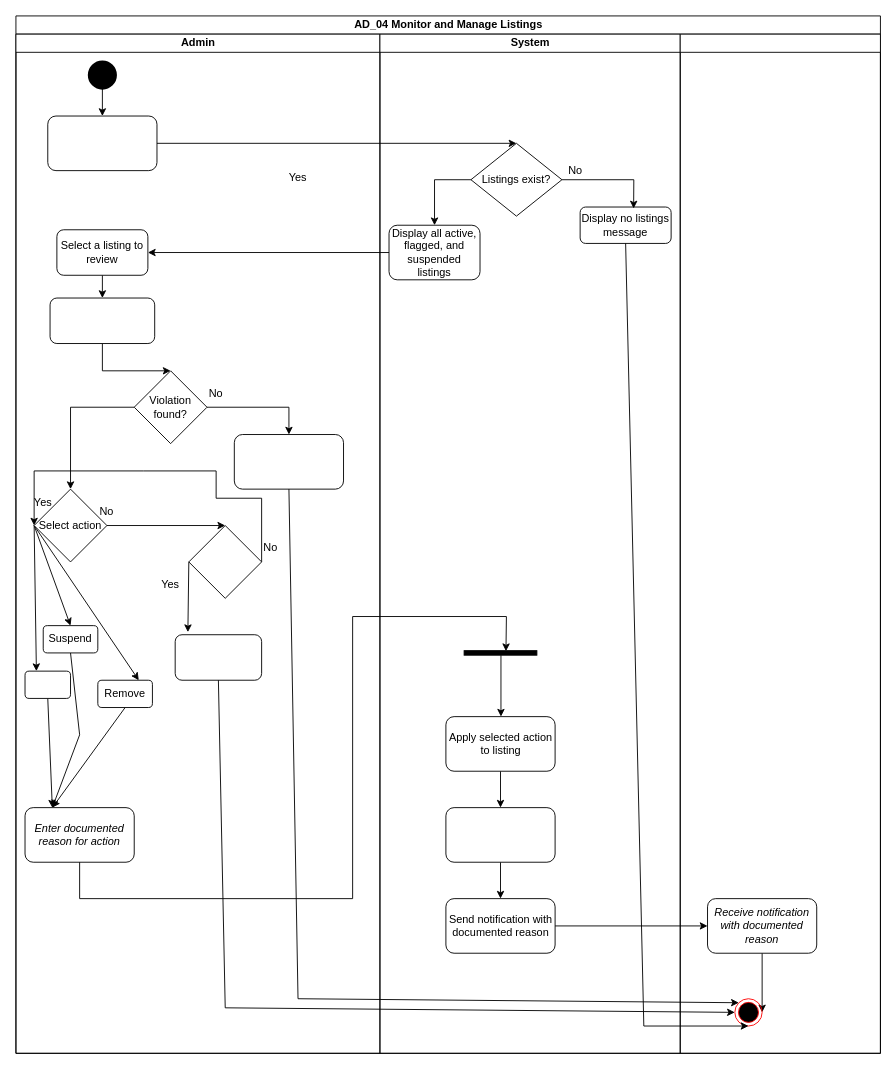
The diagram is 896 pixels wide and 1069 high, and some of its shapes have lost their labels. Each missing label, with the box of its shape:
Admin cancels action?: (188, 525, 262, 598)
Agent/Property Owner: (679, 33, 880, 1053)
Flag: (24, 670, 71, 698)
Log action with timestamp and documented reason: (445, 807, 555, 862)
Navigate to Listings Management section: (47, 115, 157, 171)
No action taken, listing remains unchanged: (233, 434, 344, 489)
No changes applied, listing remains: (174, 634, 262, 680)
Review listing for policy compliance: (49, 297, 155, 344)
